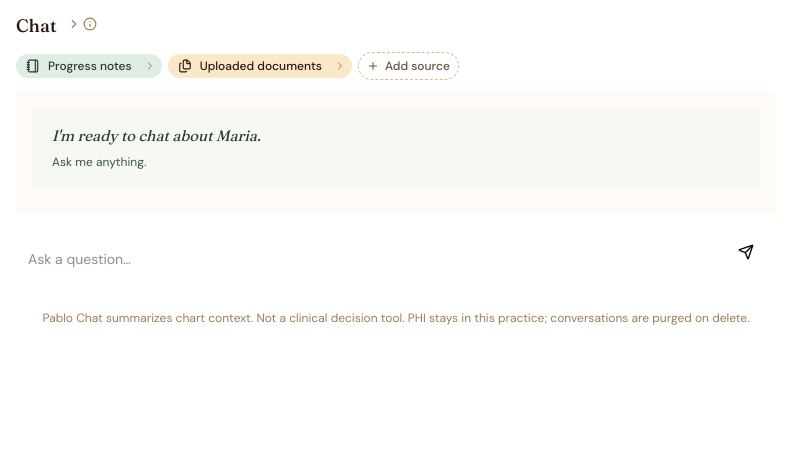
Test: ChatPanel — happy-path stream › expands the per-message manifest disclosure under the assistant reply
The image size is (785, 472).
Type "hi" into the text box named "Message" at {"x": 374, "y": 260}, box [28,248,720,272]
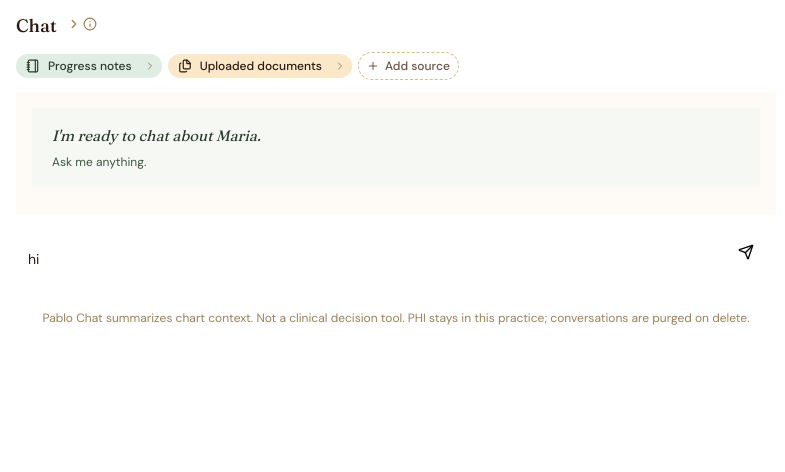
Click the button named "Send" at {"x": 746, "y": 252}, box [728,234,764,270]
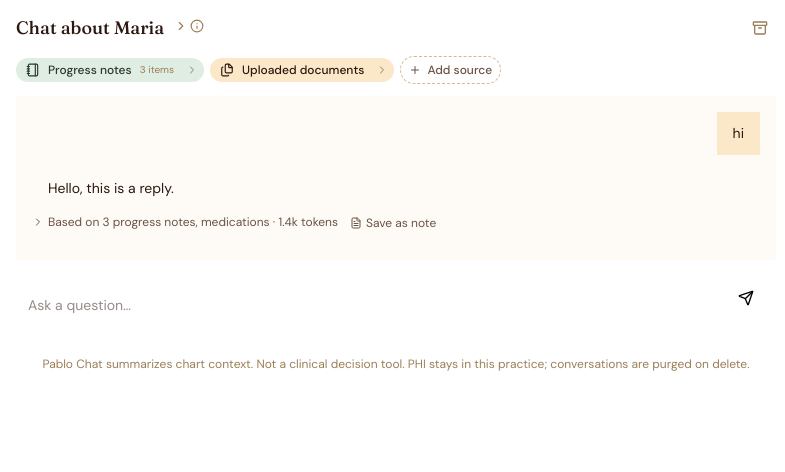
Expected: the text "Hello, this is a reply." is shown, [48,179,174,197]
Expected: the button "Based on 3 progress notes, medications · 1.4k tokens" is shown
Click the button "Based on 3 progress notes, medications · 1.4k tokens" at {"x": 185, "y": 222}, box [28,214,342,230]
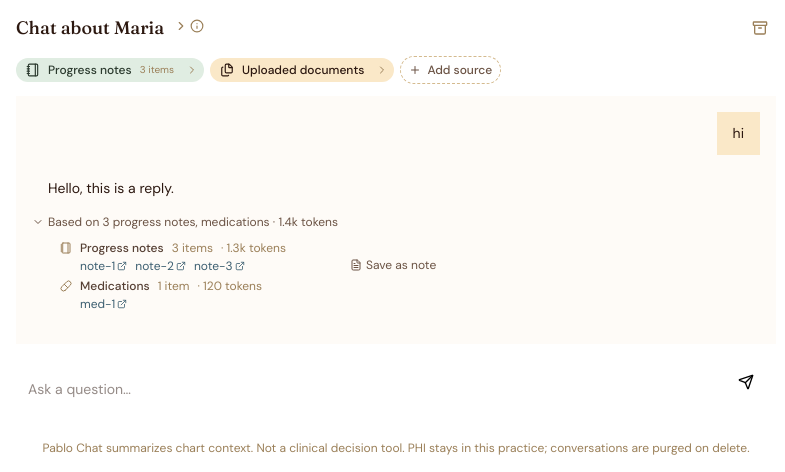
Expected: the link "note-1" is shown, [80,258,127,274]
